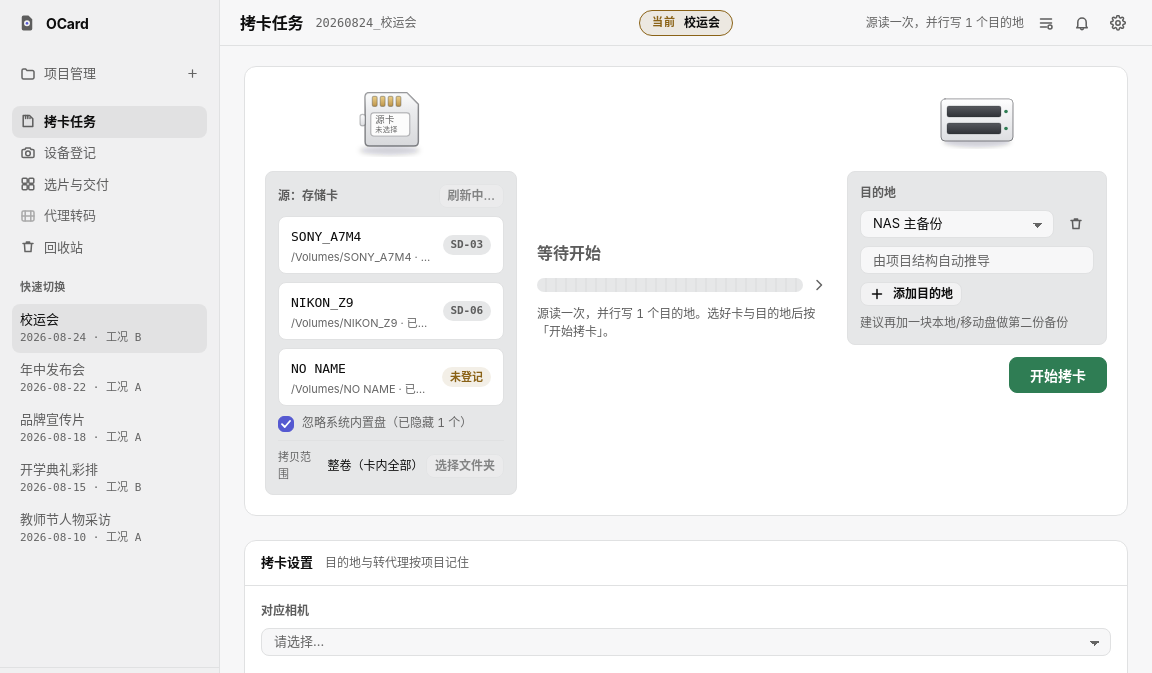
Test: 任务中心 › 历史按真实时刻排序:+08:00 与 Z 混排不乱序
Click the button with test id "task-center-toggle": (1046, 22) [1032,8,1060,36]
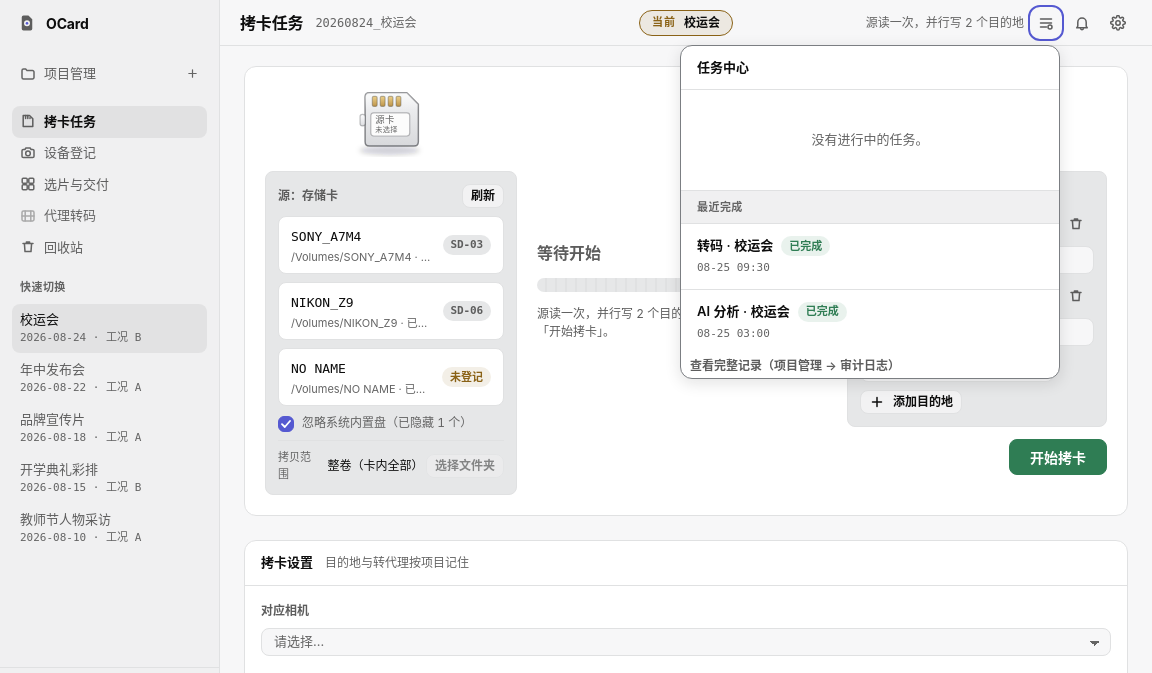
Check: the element with test id "task-history-item" shows "转码", box [697,236,1043,276]
Check: the element with test id "task-history-item" shows "AI 分析", box [697,302,1043,342]
